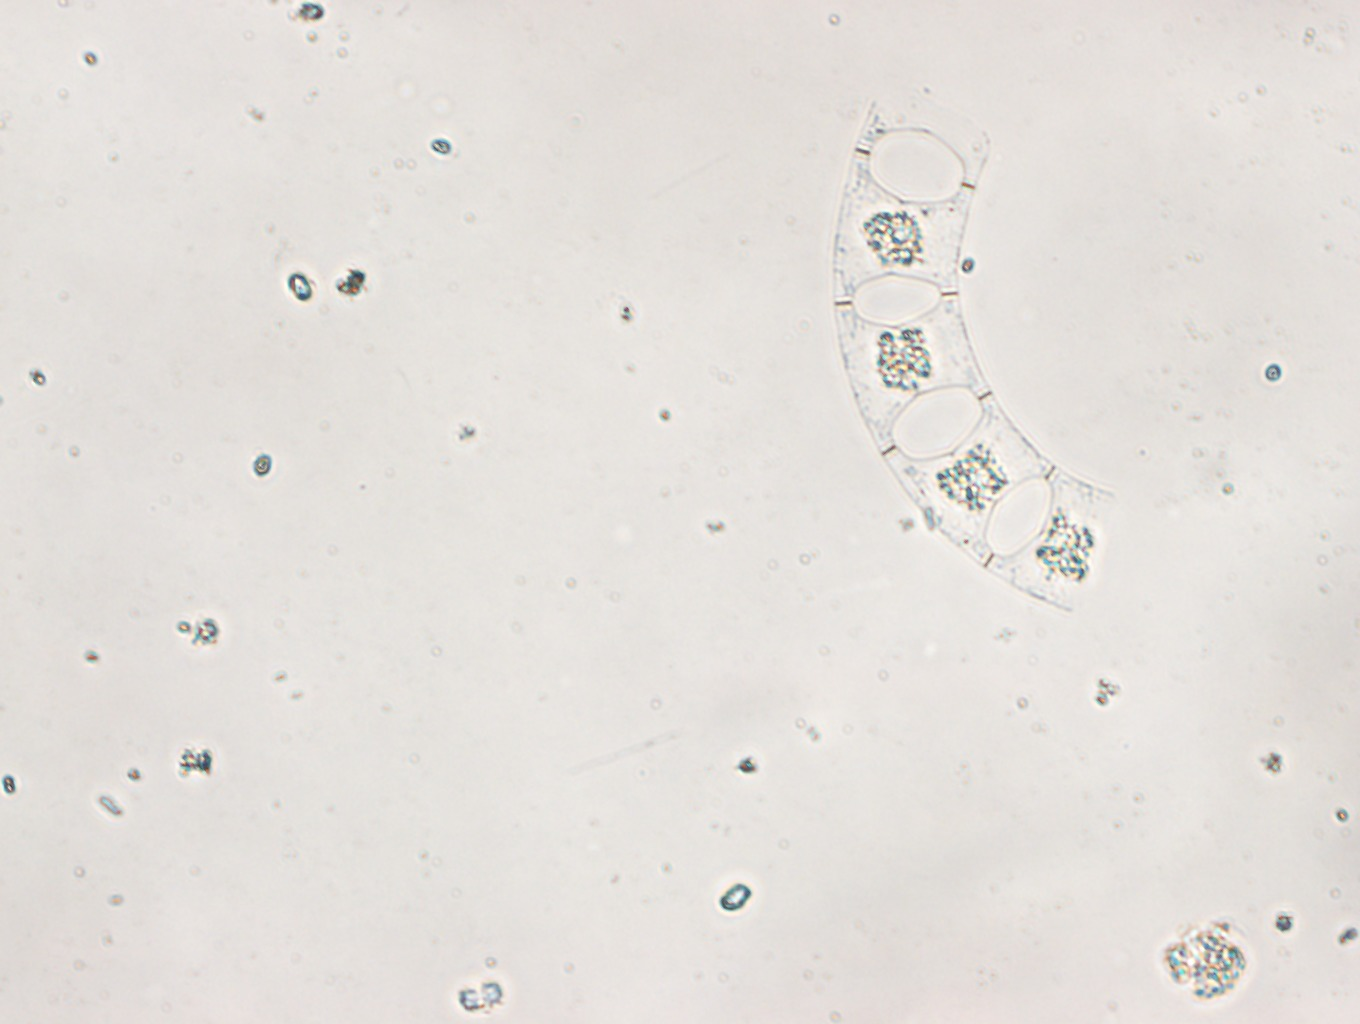eucampia: (832, 99, 1127, 609)
